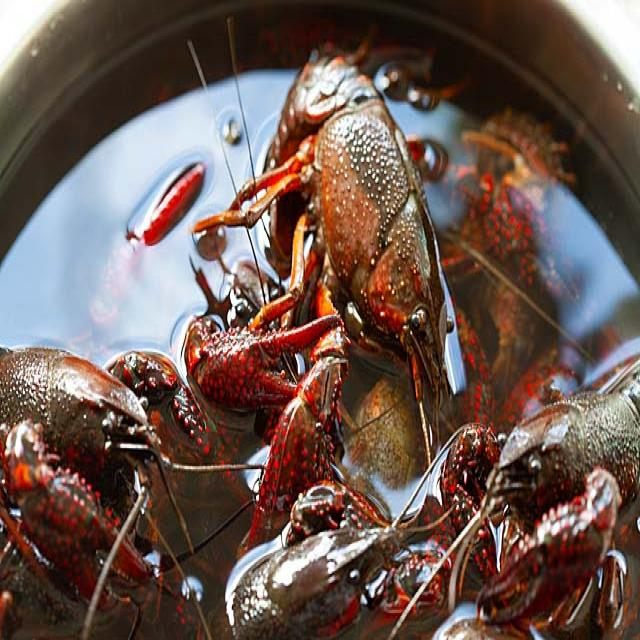Crawfish: (194, 54, 449, 460), (479, 360, 640, 623), (0, 348, 158, 597), (250, 438, 296, 544), (114, 540, 152, 580)
